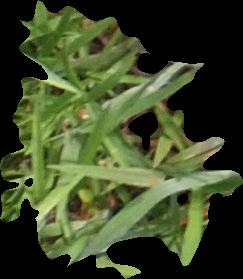grass: (1, 1, 241, 278)
